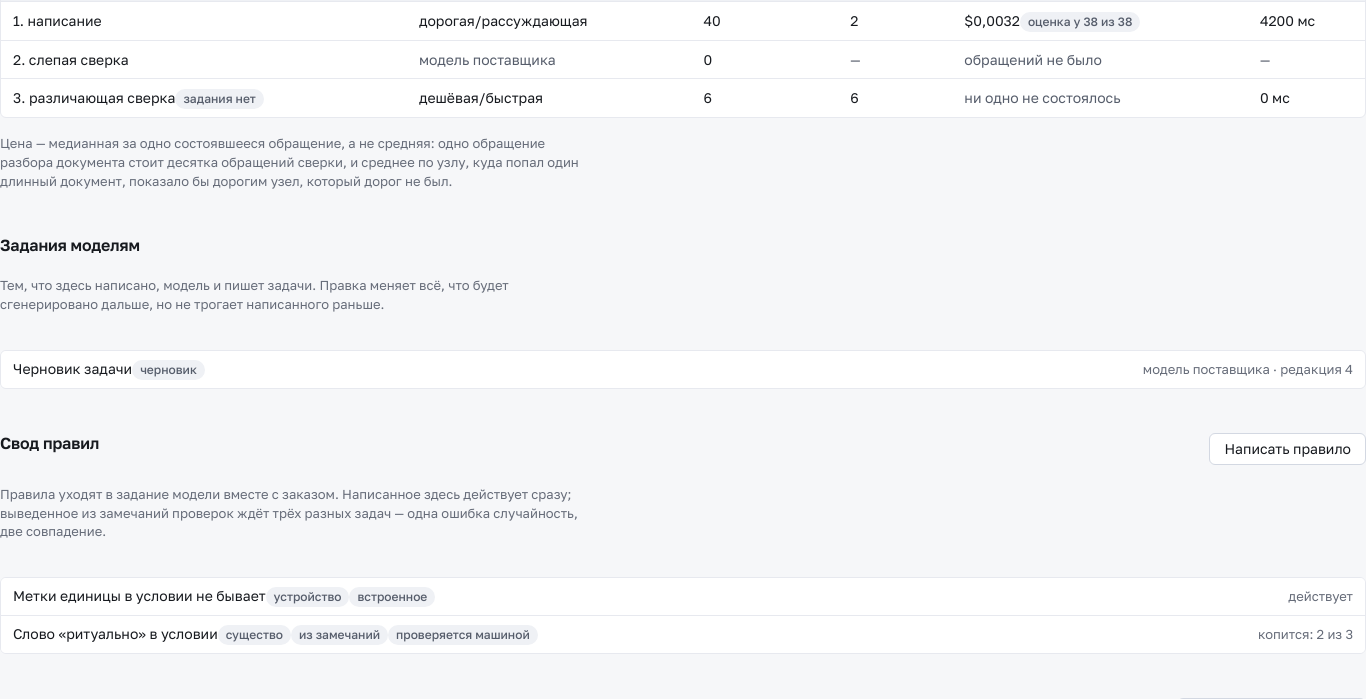
Scenario: мастерская › задание открывается на правку с нынешней редакцией
(page scrolled)
Click the text "Черновик задачи" at (109, 369), box [13, 359, 205, 380]
(page scrolled)
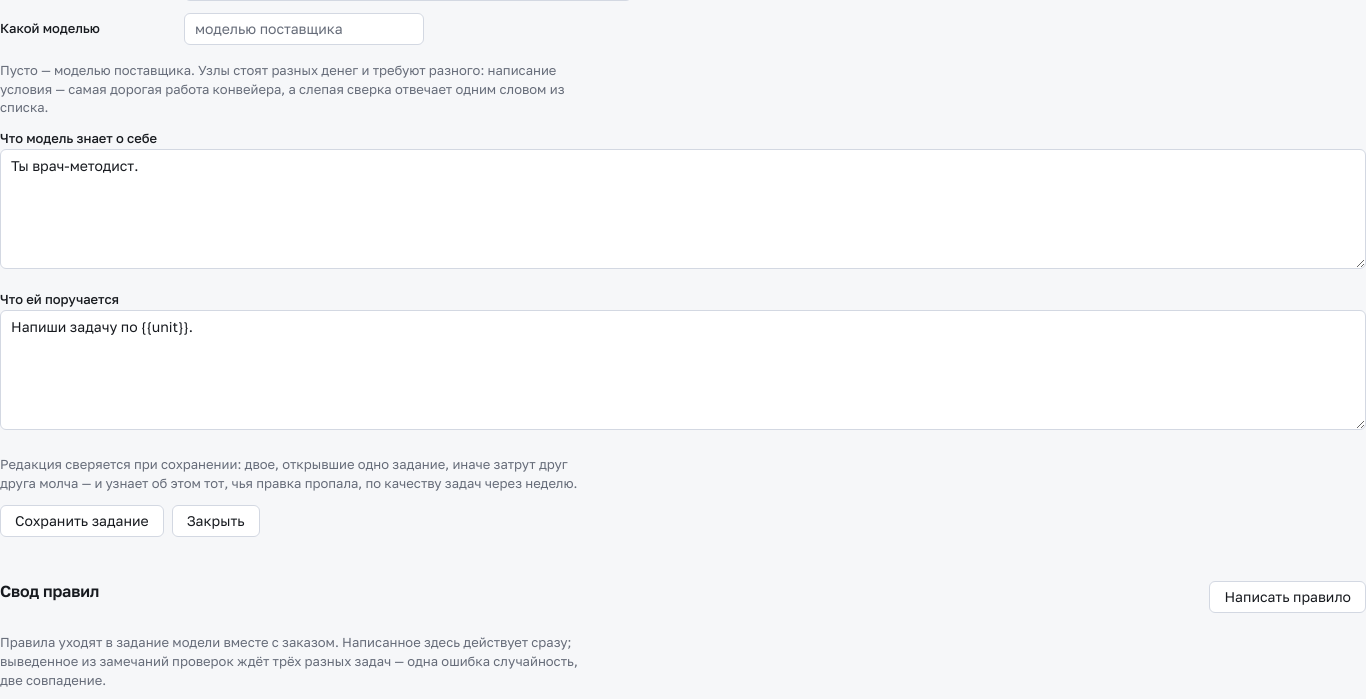
expect the text box showing "Ты врач-методист." is shown: met, box [0, 149, 1365, 269]
expect the text box showing "Напиши задачу по {{unit}}." is shown: met, box [0, 310, 1365, 430]
